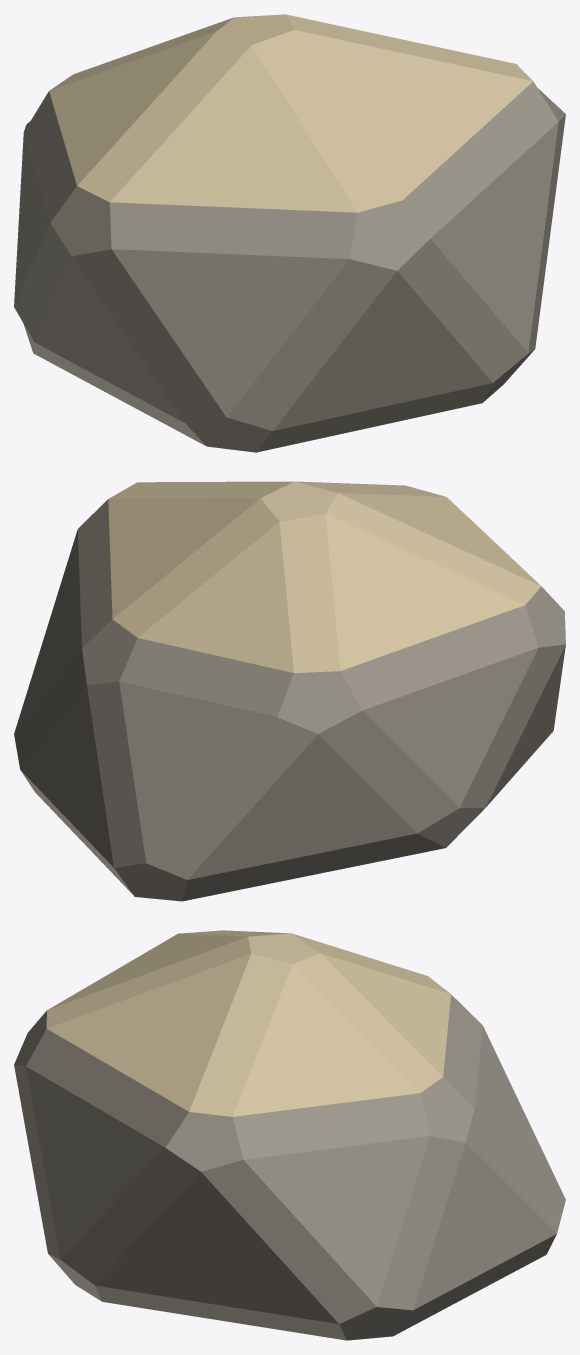
File: Rock_A.fbx
3 views of the same model, one above another, from view 1: azimuth 30°, elevation 25°; view 2: azimuth 150°, elevation 25°; view 3: azimuth 270°, elevation 25° (orthographic). The views are drawn at different scales.
Parts seen in each view (by area): view 1: Rock_A; view 2: Rock_A; view 3: Rock_A.
Boxes of the visible parts, box(x1,y1,x2,y2) form: Rock_A: box(14, 14, 565, 452); Rock_A: box(14, 481, 565, 901); Rock_A: box(14, 930, 565, 1340).
Size of the model in its own units: 0.4816 by 0.3618 by 0.5099.
